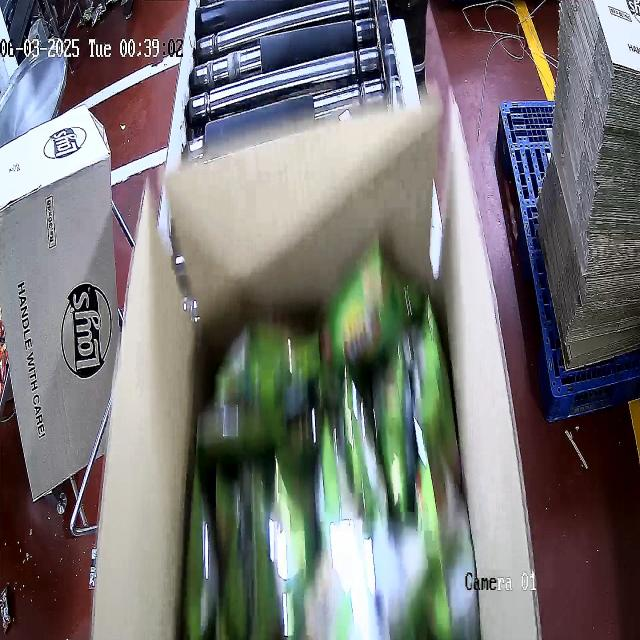YOGURT_HERB: (181, 287, 463, 640)
